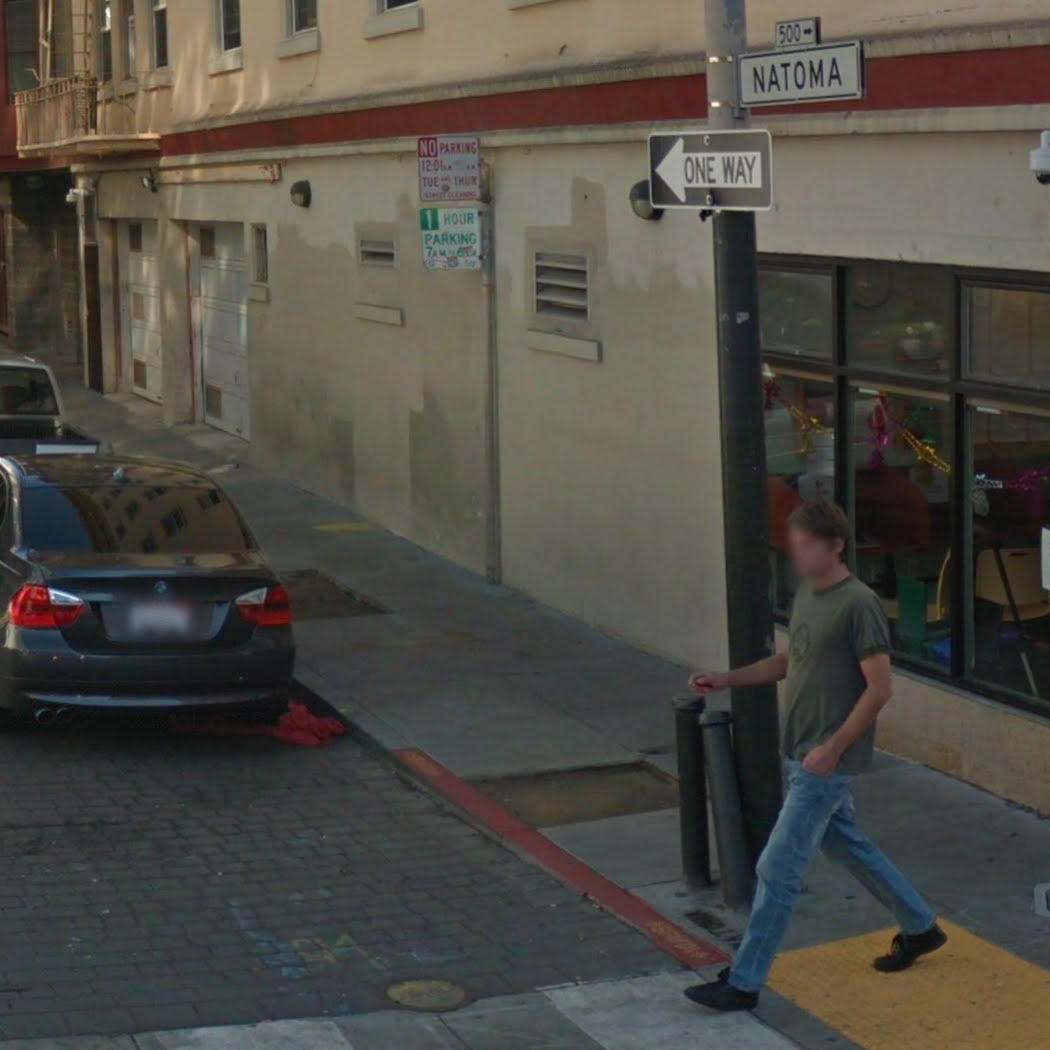1 Hour Parking: (419, 205, 482, 273)
No Parking: (416, 134, 481, 202)
